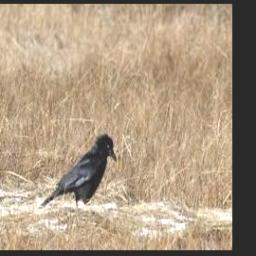Crow: (40, 132, 117, 210)
